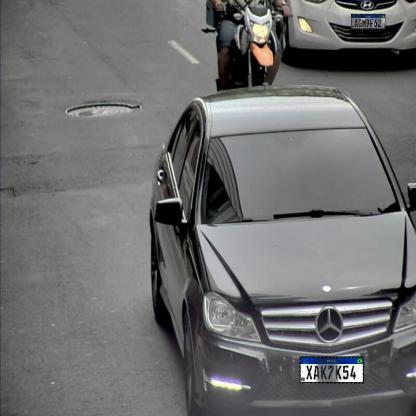PlacaM: (300, 356, 364, 384), (351, 14, 385, 29)
